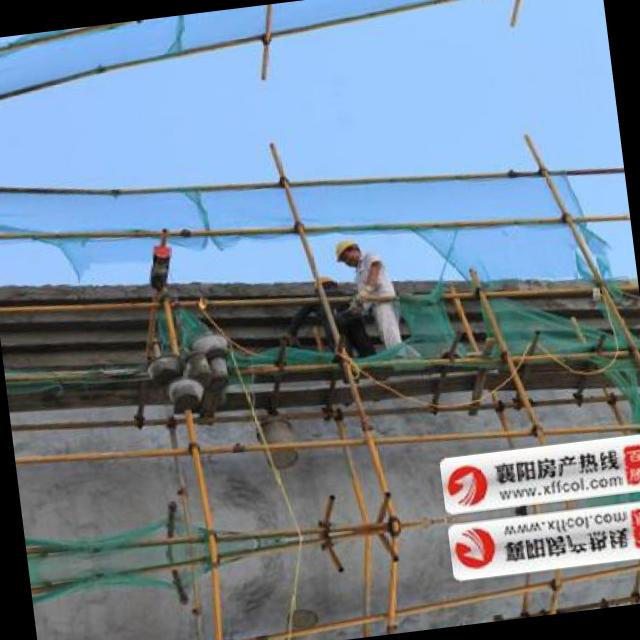helmet: (332, 234, 362, 265), (308, 268, 338, 294)
